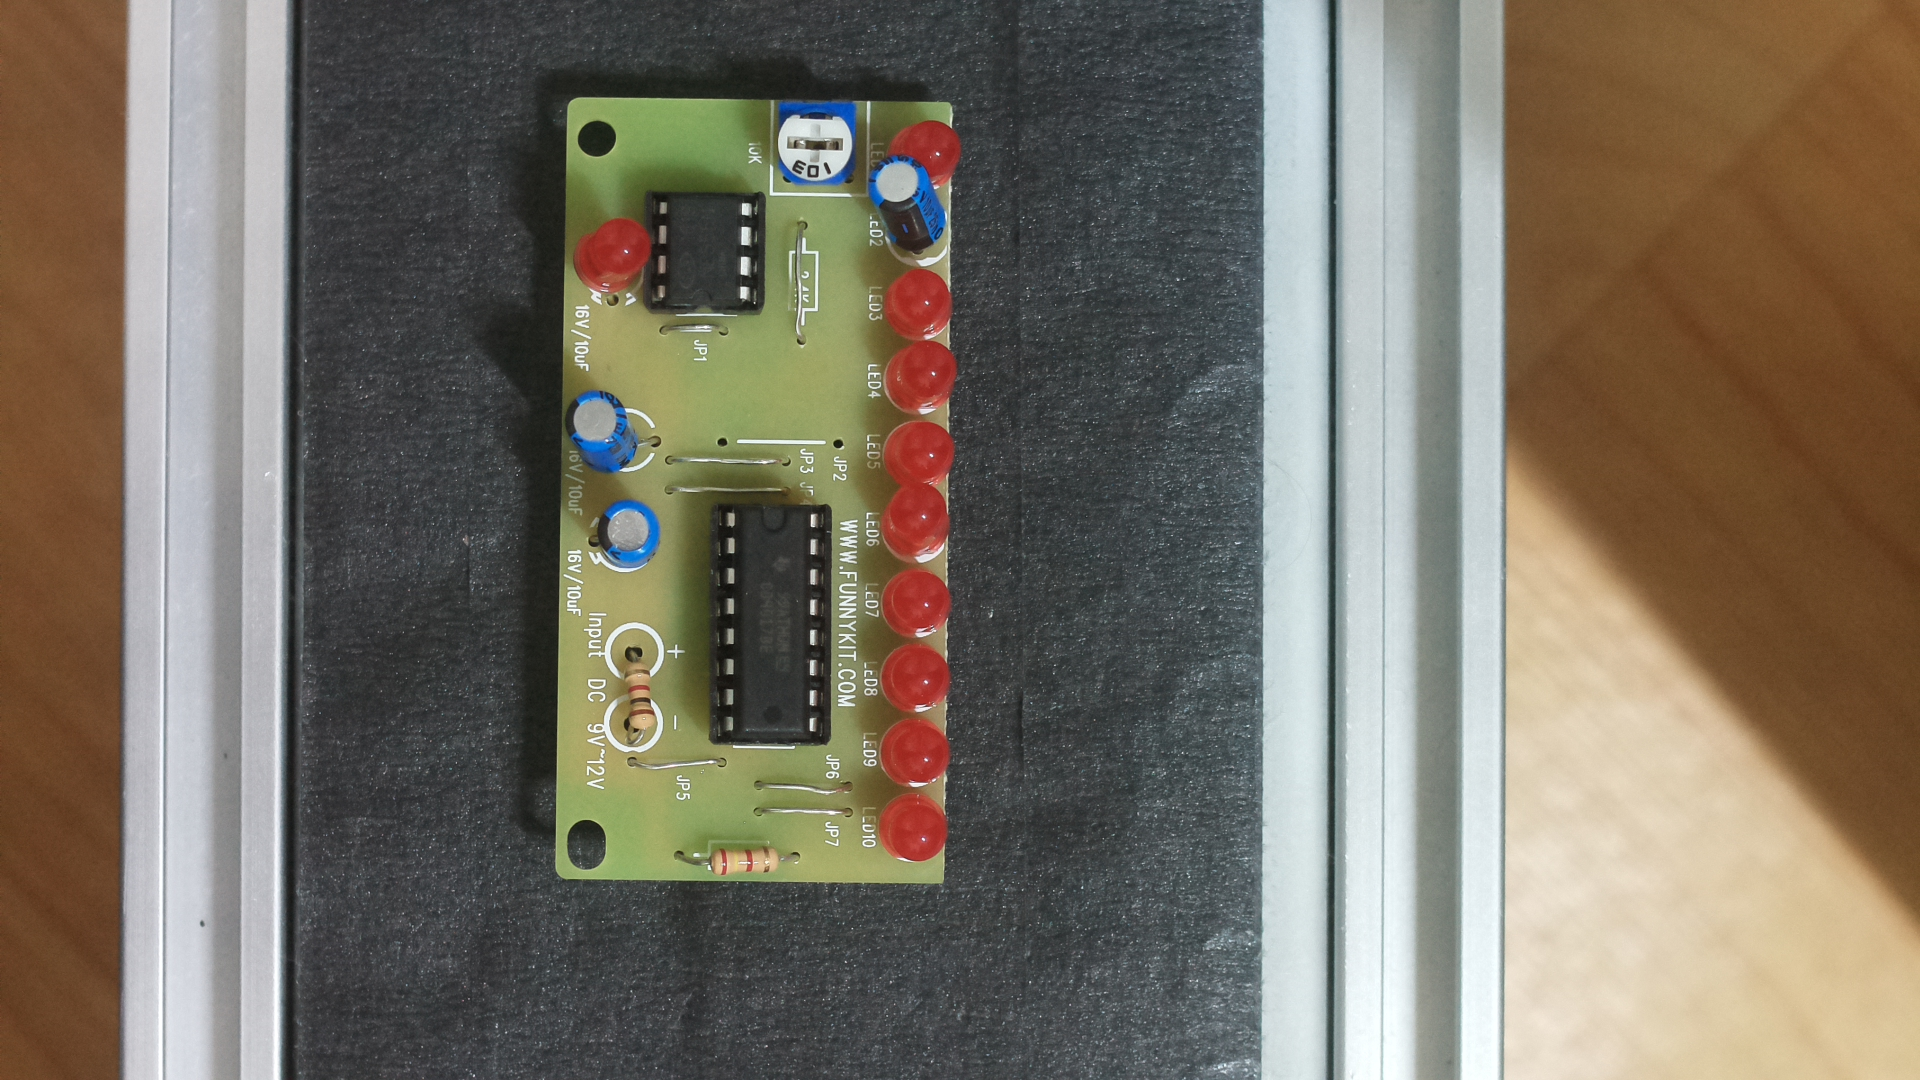B_Misordered: (524, 83, 969, 914)
